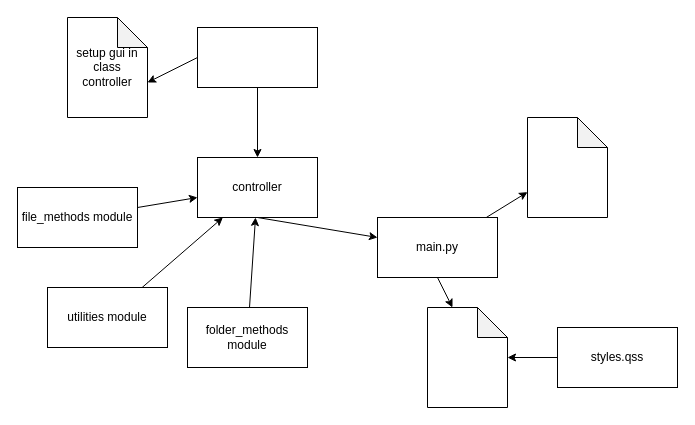
Image size: 695x425. Some labels were removed from this diagram. Each missing label, with the box of its shape:
executes code: (526, 116, 608, 218)
my_gui.py: (196, 26, 318, 88)
open styles file and set up appearance: (426, 306, 508, 408)
